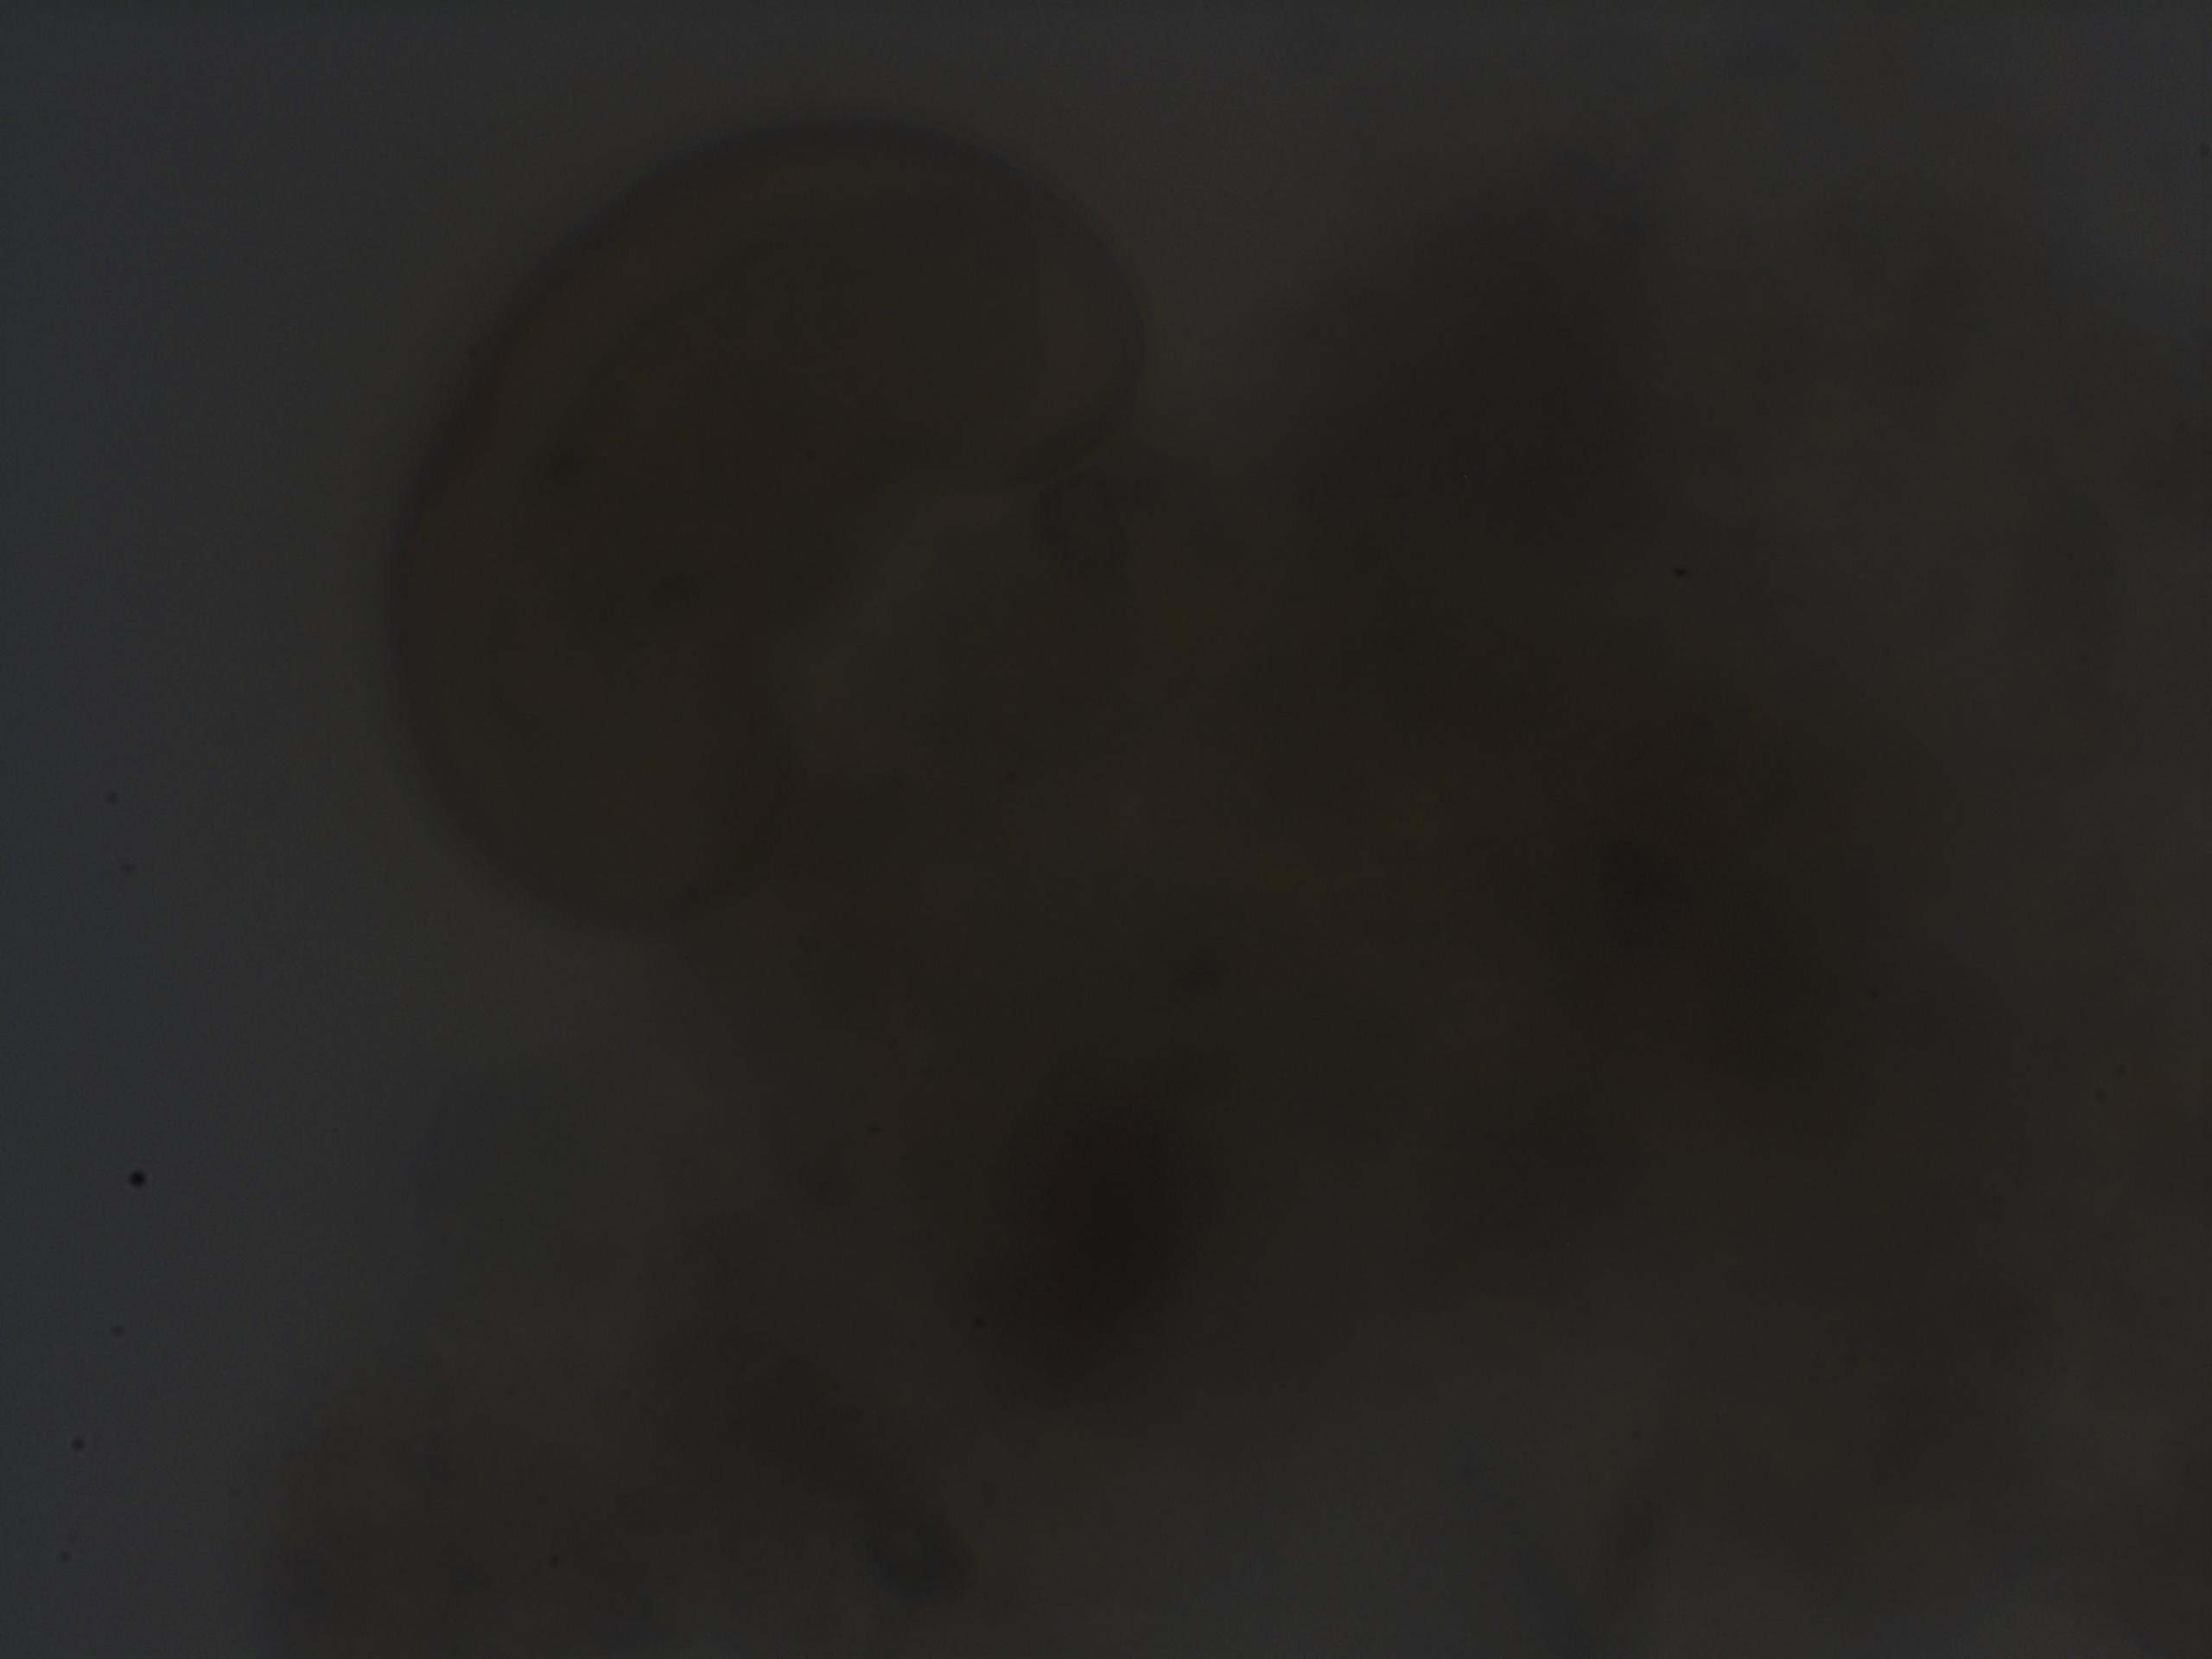protozoa: (364, 106, 1179, 953)
